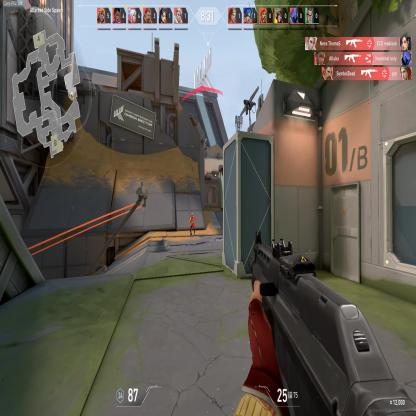enemy: (188, 211, 196, 237)
